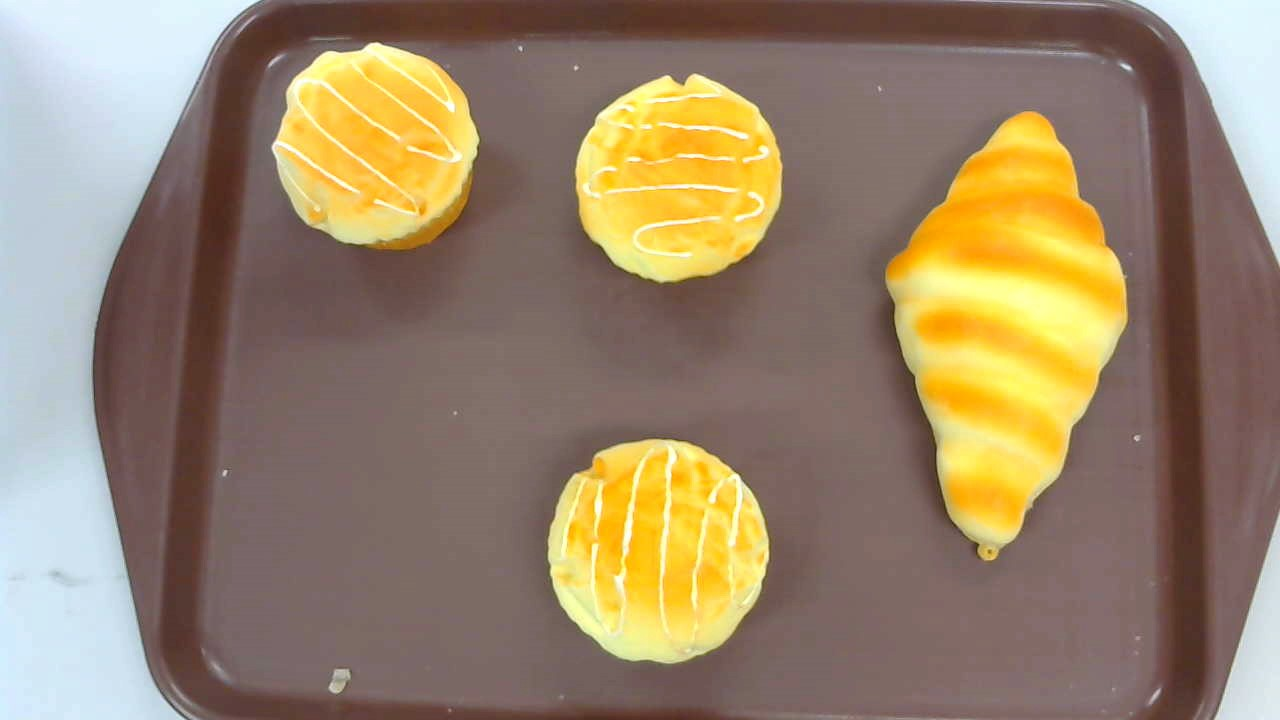croissant: (885, 111, 1128, 562)
cupcake: (546, 437, 770, 664), (574, 72, 782, 287), (272, 41, 480, 251)
